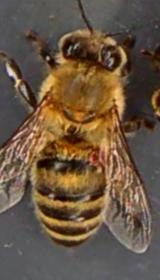varroa_mite: (85, 145, 111, 168)
